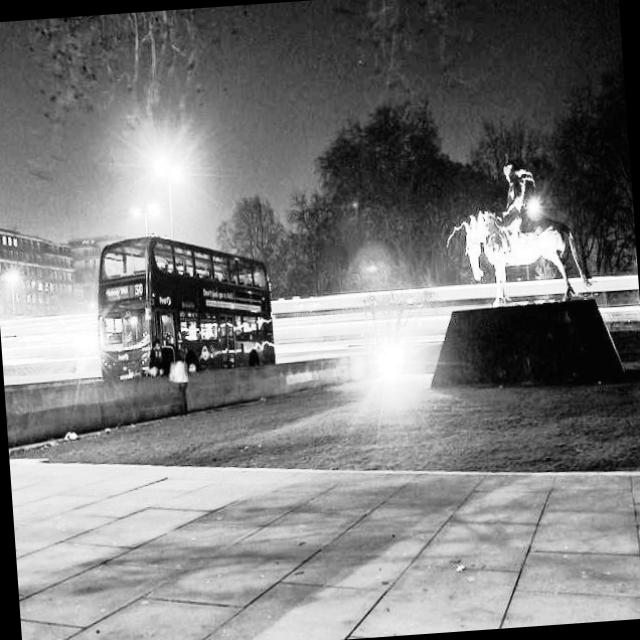Bus: (71, 206, 296, 409)
